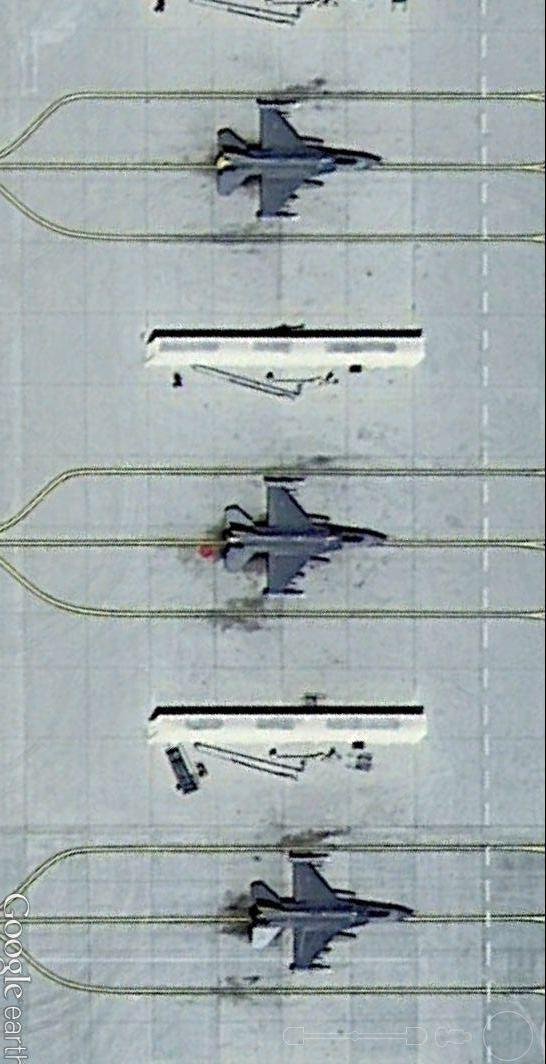F-16: (210, 98, 391, 223), (245, 847, 413, 978), (221, 475, 399, 596)
